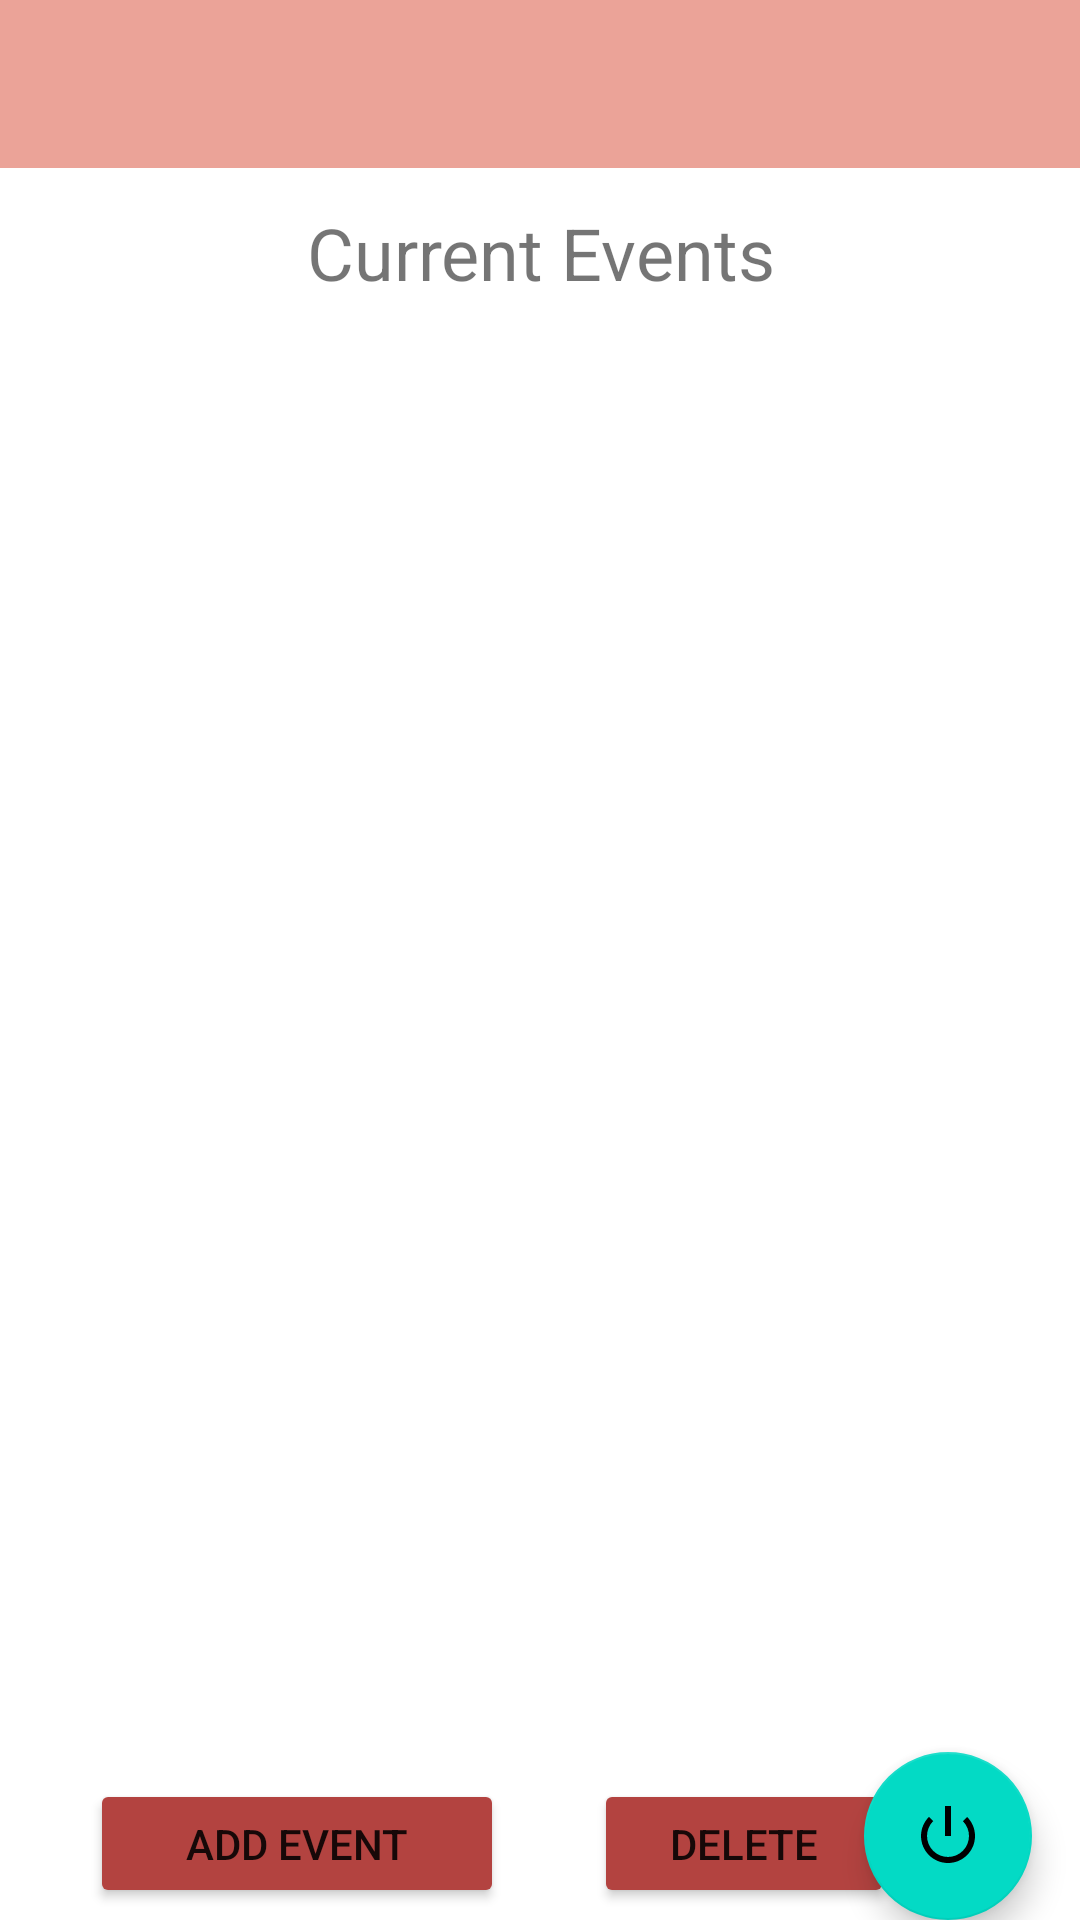

Locate icon controls on the screen. Image size 1080px x 1920px, boxes as box(x1, y1, x2, y2).
lock power off: box(864, 1752, 1032, 1920)
